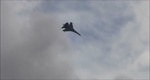maybay_muctieu: (61, 21, 82, 36)
